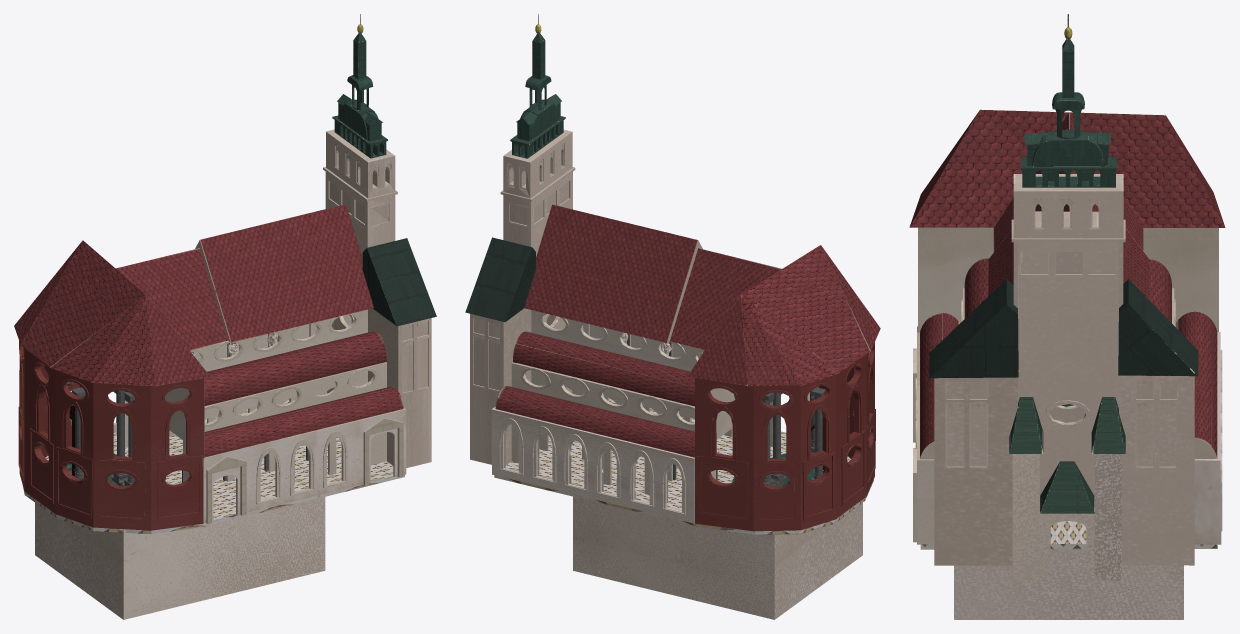
Rendered from AltesPeter.fbx.
3 views of the same model, side by side, from view 1: azimuth 30°, elevation 25°; view 2: azimuth 150°, elevation 25°; view 3: azimuth 270°, elevation 25° (orthographic). The views are drawn at different scales.
Parts seen in each view (by area): view 1: AllRoofs, AllWallsCylinderPart, LowerHiddenLevel, FrontTower, AllSmallRoofs, LeftOuterWall, AllWalls, GroundFloorDevider, FrontSideTriangularRoofs, ChurchTower, AllWallsConnectToCylinderPart; view 2: AllRoofs, AllWallsCylinderPart, LowerHiddenLevel, FrontTower, AllSmallRoofs, RightOuterWall, AllWalls, GroundFloorDevider, FrontSideTriangularRoofs, ChurchTower, AllWallsConnectToCylinderPart, FrintCylinderPillarsBig.001; view 3: FrontTower, AllRoofs, EntranceDoorFront, LowerHiddenLevel, FrontSideTriangularRoofs, AllWallsConnectToCylinderPart, AllSmallRoofs, ChurchTower, RightOuterWall, LeftOuterWall, GroundFloorDevider.
Part boxes in pixels (<box>): AllRoofs: <box>14,204,373,386</box>; AllWallsCylinderPart: <box>18,341,204,530</box>; LowerHiddenLevel: <box>35,497,325,619</box>; FrontTower: <box>323,129,431,467</box>; AllSmallRoofs: <box>204,331,403,457</box>; LeftOuterWall: <box>203,408,406,523</box>; AllWalls: <box>125,309,386,483</box>; GroundFloorDevider: <box>23,399,404,534</box>; FrontSideTriangularRoofs: <box>362,238,436,326</box>; ChurchTower: <box>332,14,387,158</box>; AllWallsConnectToCylinderPart: <box>125,388,189,482</box>; AllRoofs: <box>524,204,880,386</box>; AllWallsCylinderPart: <box>695,342,875,531</box>; LowerHiddenLevel: <box>573,496,862,619</box>; FrontTower: <box>470,129,575,464</box>; AllSmallRoofs: <box>495,331,694,457</box>; RightOuterWall: <box>491,406,694,523</box>; AllWalls: <box>511,310,772,494</box>; GroundFloorDevider: <box>494,398,873,534</box>; FrontSideTriangularRoofs: <box>465,237,535,322</box>; ChurchTower: <box>510,14,565,158</box>; AllWallsConnectToCylinderPart: <box>710,388,809,479</box>; FrintCylinderPillarsBig.001: <box>811,387,825,479</box>; FrontTower: <box>934,174,1194,565</box>; AllRoofs: <box>909,109,1225,299</box>; EntranceDoorFront: <box>1009,397,1125,580</box>; LowerHiddenLevel: <box>954,549,1183,619</box>; FrontSideTriangularRoofs: <box>929,279,1198,378</box>; AllWallsConnectToCylinderPart: <box>918,227,1218,332</box>; AllSmallRoofs: <box>920,258,1217,459</box>; ChurchTower: <box>1020,14,1117,187</box>; RightOuterWall: <box>1194,332,1222,544</box>; LeftOuterWall: <box>913,332,934,544</box>; GroundFloorDevider: <box>920,521,1217,549</box>.
Size of the model in its own units: 3270 by 4291 by 1874.
